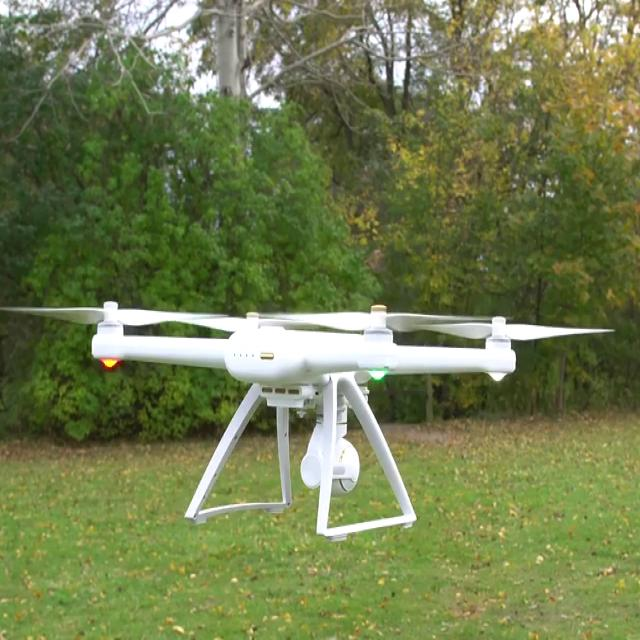drone: (0, 281, 621, 438)
